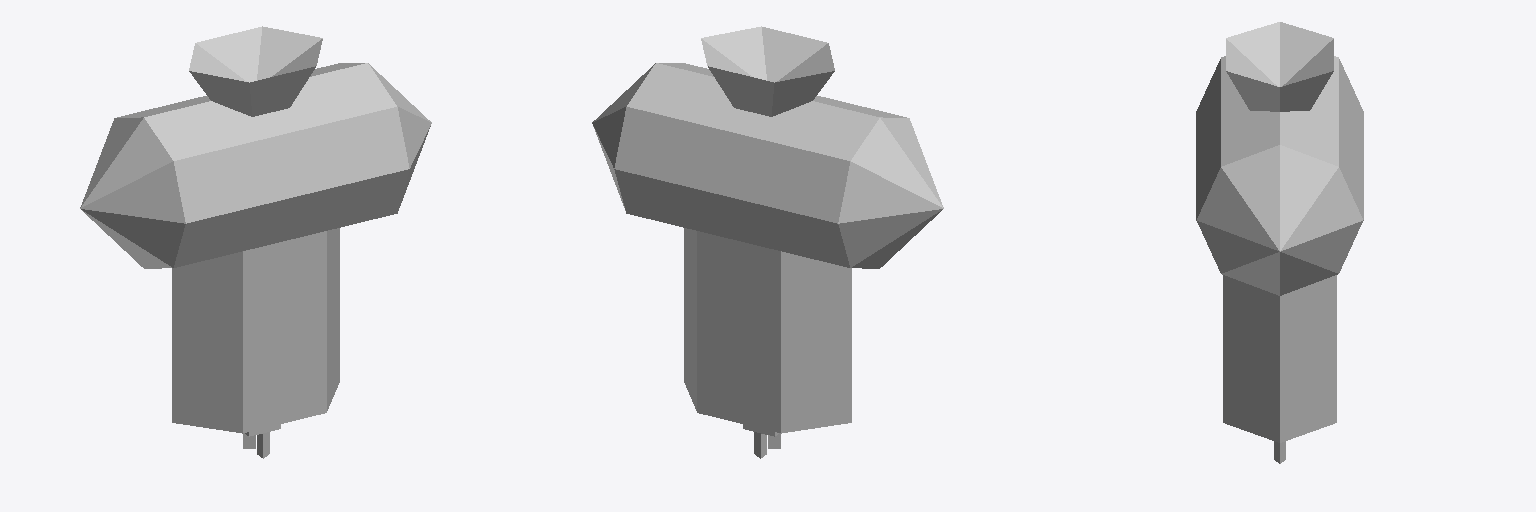
Rendered from acs48_static.obj.
3 renders of one model, left to right at view 1: azimuth 30°, elevation 25°; view 2: azimuth 150°, elevation 25°; view 3: azimuth 270°, elevation 25°, orthographic.
Visible parts, largest first — view 1: frm-canister, frm-cyl1, frm-cyl2; view 2: frm-canister, frm-cyl1, frm-cyl2; view 3: frm-canister, frm-cyl1, frm-cyl2.
Boxes of the visible parts, x1,y1,x2,y2 form: frm-canister: [80, 63, 431, 268]; frm-cyl1: [172, 228, 339, 433]; frm-cyl2: [189, 26, 322, 116]; frm-canister: [592, 63, 943, 268]; frm-cyl1: [684, 228, 851, 433]; frm-cyl2: [701, 26, 834, 116]; frm-canister: [1196, 56, 1363, 295]; frm-cyl1: [1223, 275, 1336, 442]; frm-cyl2: [1226, 22, 1333, 111].
Bounding box in the file's own units: 5.45 × 5.96 × 2.24.